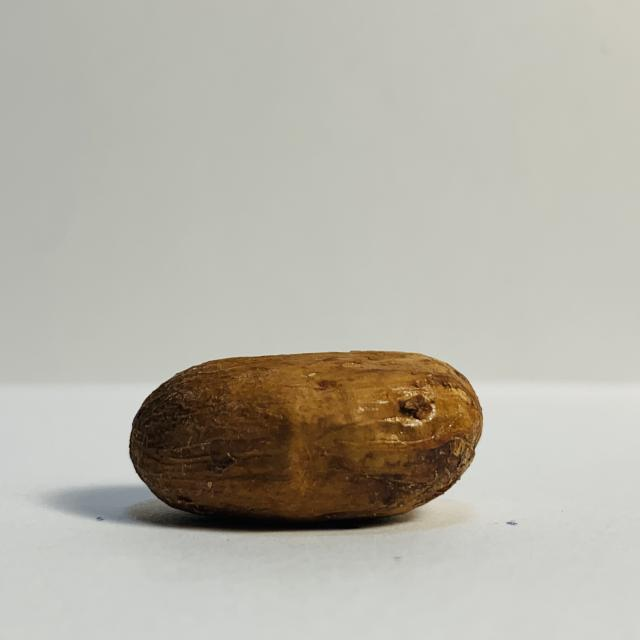Fine_cocoabeans: (92, 333, 532, 550)
